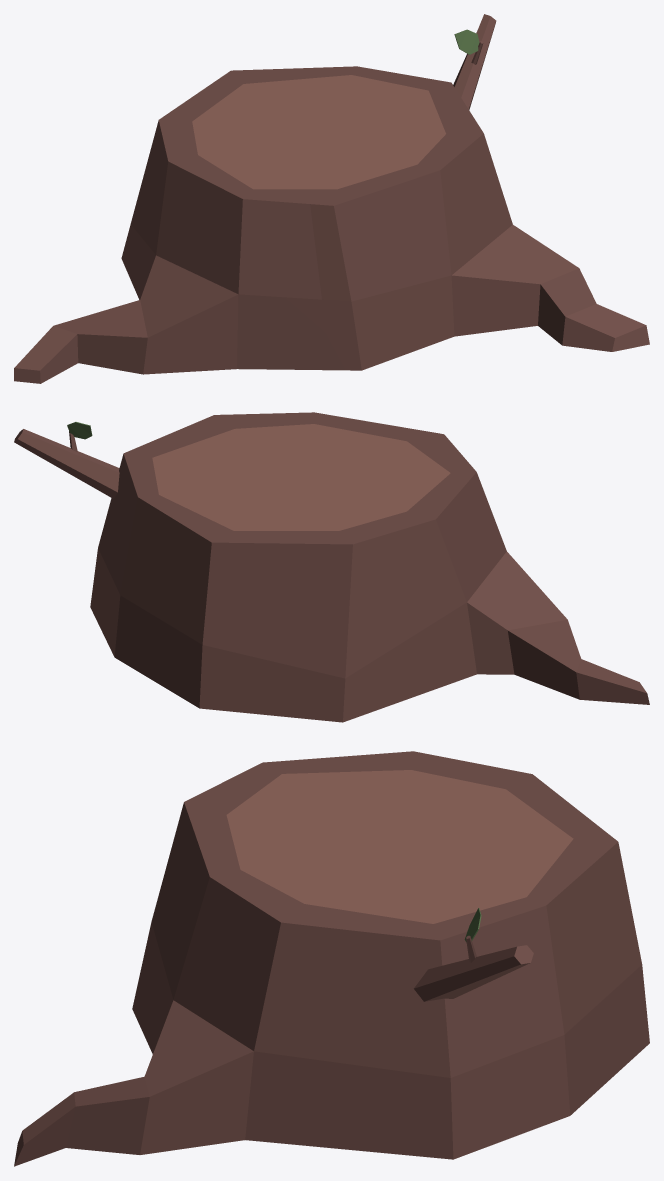
File: TreeStump_Flat.fbx
3 views of the same model, one above another, from view 1: azimuth 30°, elevation 25°; view 2: azimuth 150°, elevation 25°; view 3: azimuth 270°, elevation 25° (orthographic). The views are drawn at different scales.
Parts seen in each view (by area): view 1: TreeStump; view 2: TreeStump; view 3: TreeStump.
Boxes of the visible parts, x1,y1,x2,y2 form: TreeStump: (14,14,649,383); TreeStump: (14,412,649,722); TreeStump: (14,751,649,1166).
Size of the model in its own units: 136 by 44.96 by 103.
